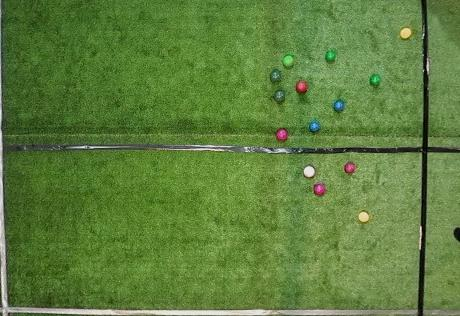blue: (333, 100, 344, 112), (309, 121, 319, 132)
green: (282, 55, 294, 68), (369, 75, 380, 86), (274, 90, 284, 101), (269, 71, 280, 81), (325, 51, 335, 62)
red: (275, 129, 288, 141), (313, 183, 325, 196), (303, 166, 315, 178), (296, 81, 307, 93), (344, 163, 355, 173)
vline: (418, 1, 460, 315), (0, 1, 11, 315)
yellow: (400, 28, 412, 39), (358, 212, 369, 222)
